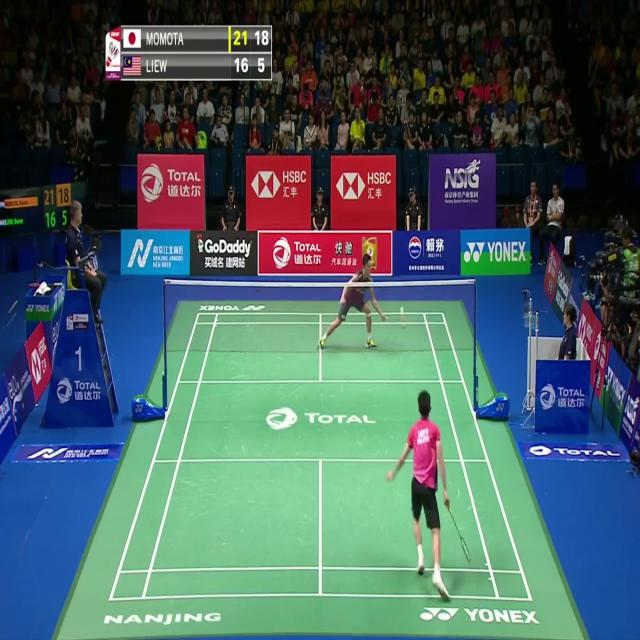Shuttlecock: (398, 303, 405, 314)
